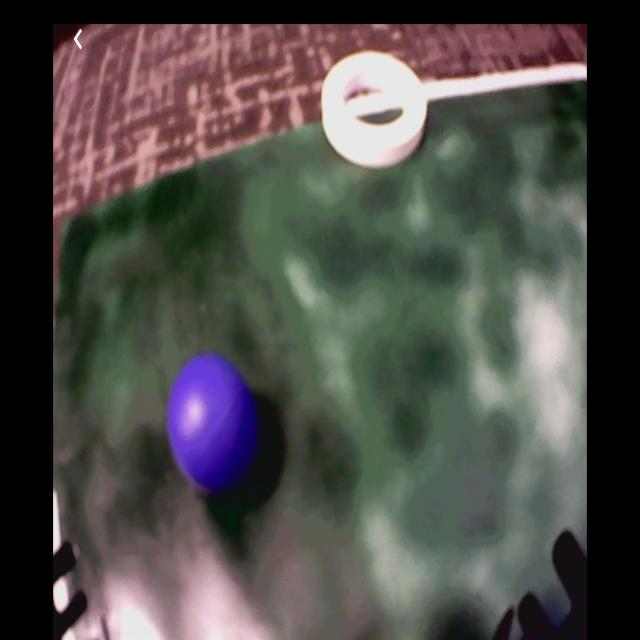ball: (168, 352, 260, 493)
